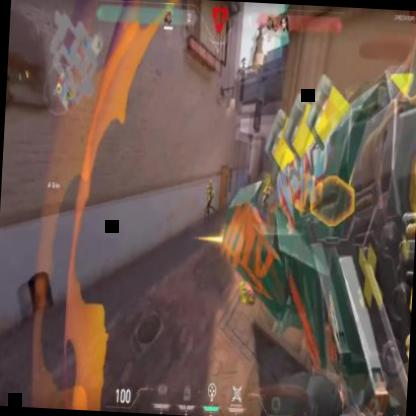enemy: (260, 179, 274, 213), (205, 181, 214, 221)
enemy_head: (266, 178, 269, 186), (209, 178, 212, 185)
